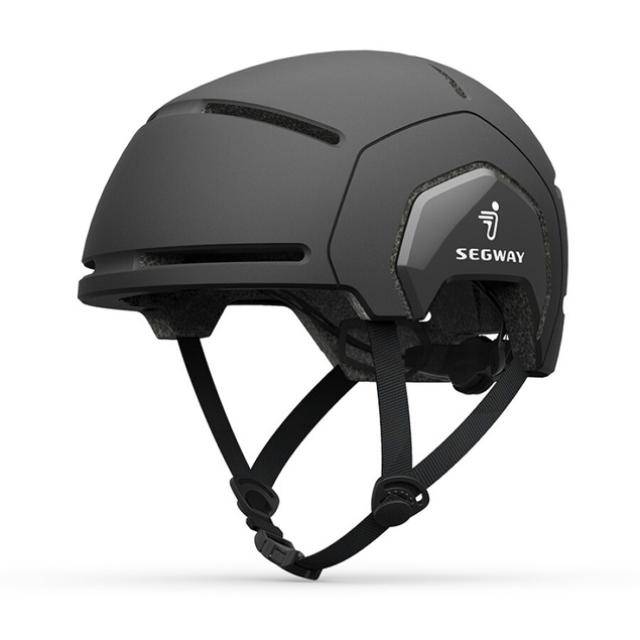Helmet: (73, 46, 574, 580)
